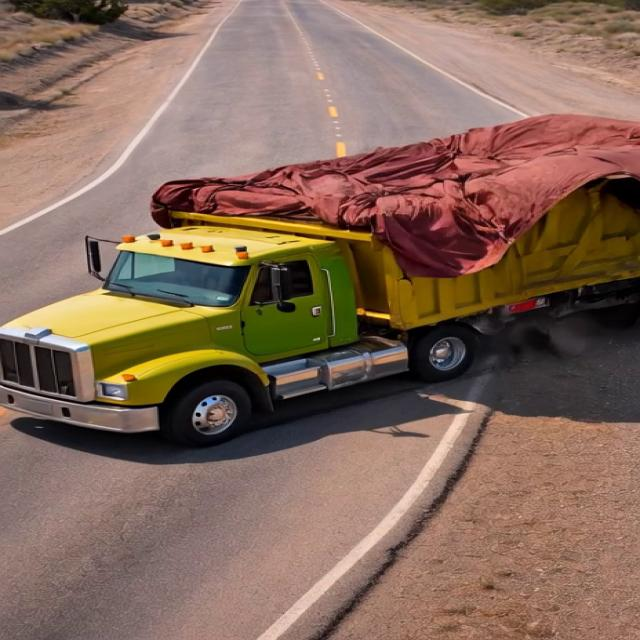trailer: (158, 147, 640, 232)
truck: (7, 115, 640, 441)
